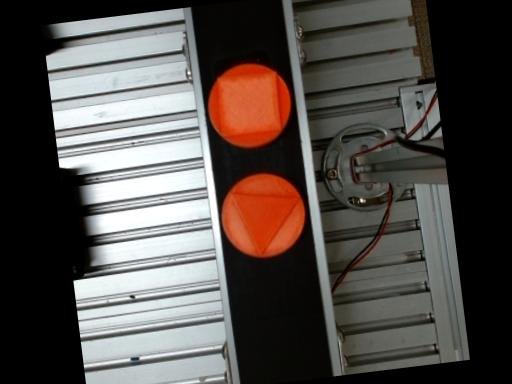Not_Square: (229, 192, 301, 256)
Orange_Waper: (208, 62, 291, 147), (222, 173, 305, 256)
Square: (217, 69, 283, 136)
